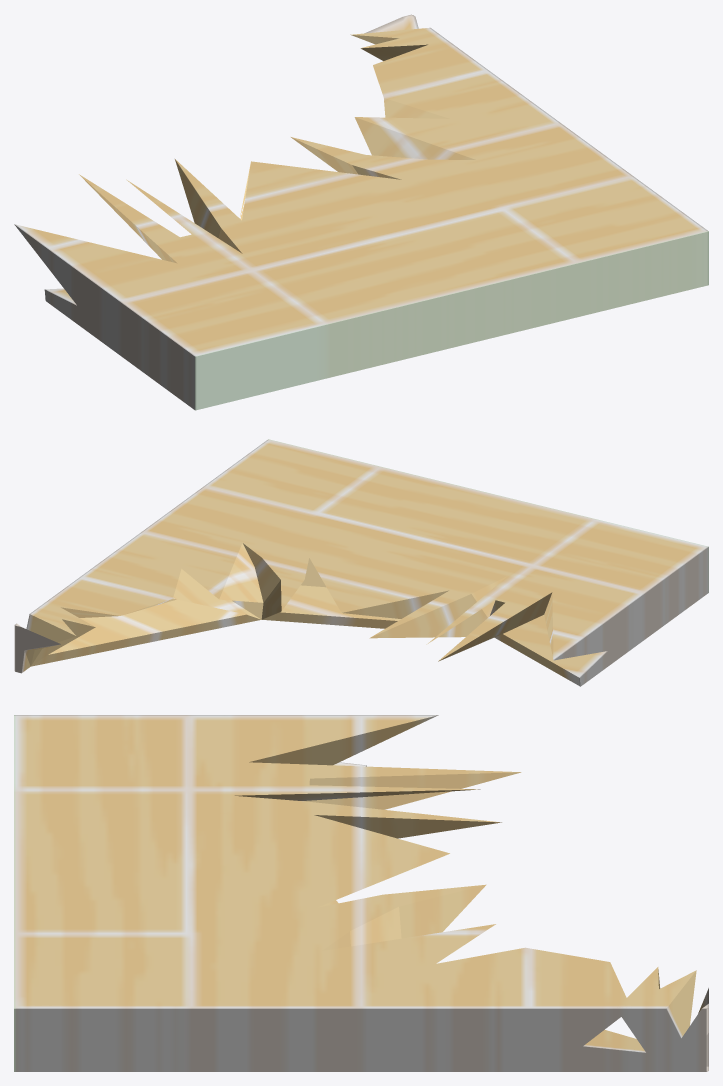
The model's file is Mod_Tile_05_Broken_01.fbx.
The picture shows the model from 3 angles, top to bottom: view 1: azimuth 30°, elevation 25°; view 2: azimuth 150°, elevation 25°; view 3: azimuth 270°, elevation 25°; orthographic projection. The views are drawn at different scales.
Visible parts, largest first — view 1: Mod_Tile_05_Broken_01; view 2: Mod_Tile_05_Broken_01; view 3: Mod_Tile_05_Broken_01.
Boxes of the visible parts, box(x1,y1,x2,y2) form: Mod_Tile_05_Broken_01: box(14, 14, 708, 410); Mod_Tile_05_Broken_01: box(14, 439, 708, 686); Mod_Tile_05_Broken_01: box(14, 715, 708, 1071).
Bounding box in the file's own units: 100 × 10 × 100.
